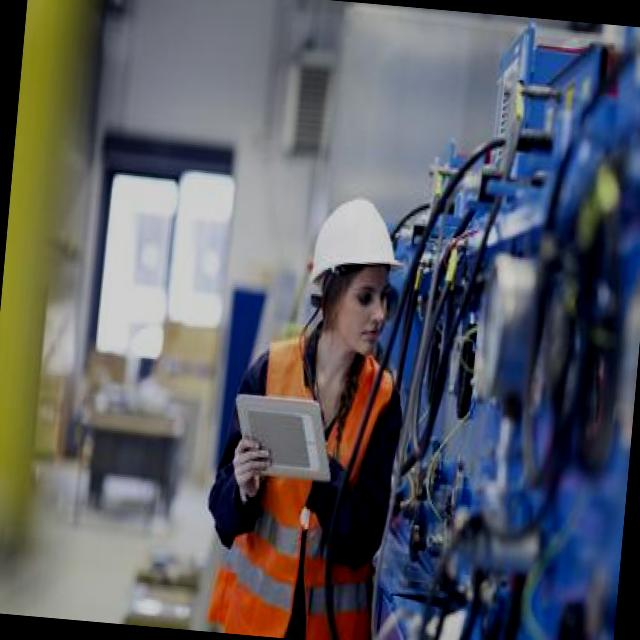helmet: (298, 186, 414, 299)
vest: (209, 328, 402, 640)
